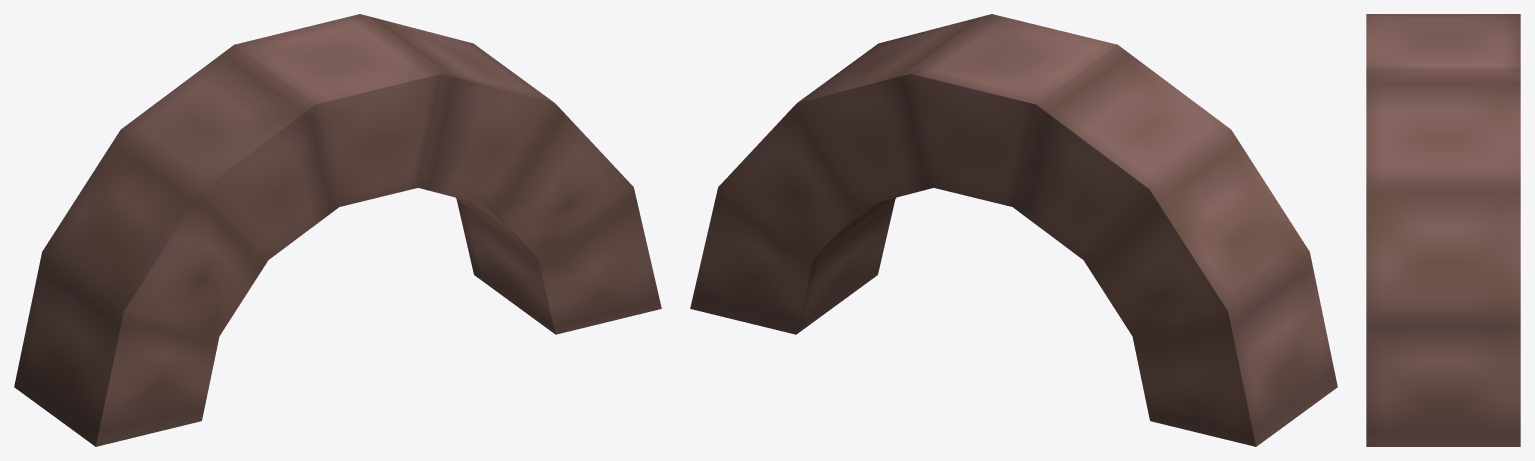
The model's file is arch_04_red.fbx.
The picture shows the model from 3 angles, left to right: view 1: azimuth 30°, elevation 25°; view 2: azimuth 150°, elevation 25°; view 3: azimuth 270°, elevation 25°; orthographic projection. The views are drawn at different scales.
Parts seen in each view (by area): view 1: arch_04_red; view 2: arch_04_red; view 3: arch_04_red.
Part boxes in pixels (x1=…): arch_04_red: x1=14, y1=14, x2=661, y2=446; arch_04_red: x1=690, y1=14, x2=1337, y2=446; arch_04_red: x1=1366, y1=14, x2=1520, y2=446.
Size of the model in its own units: 16 by 7.8 by 4.
